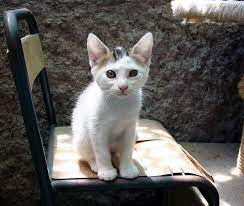cat: (67, 23, 153, 184)
